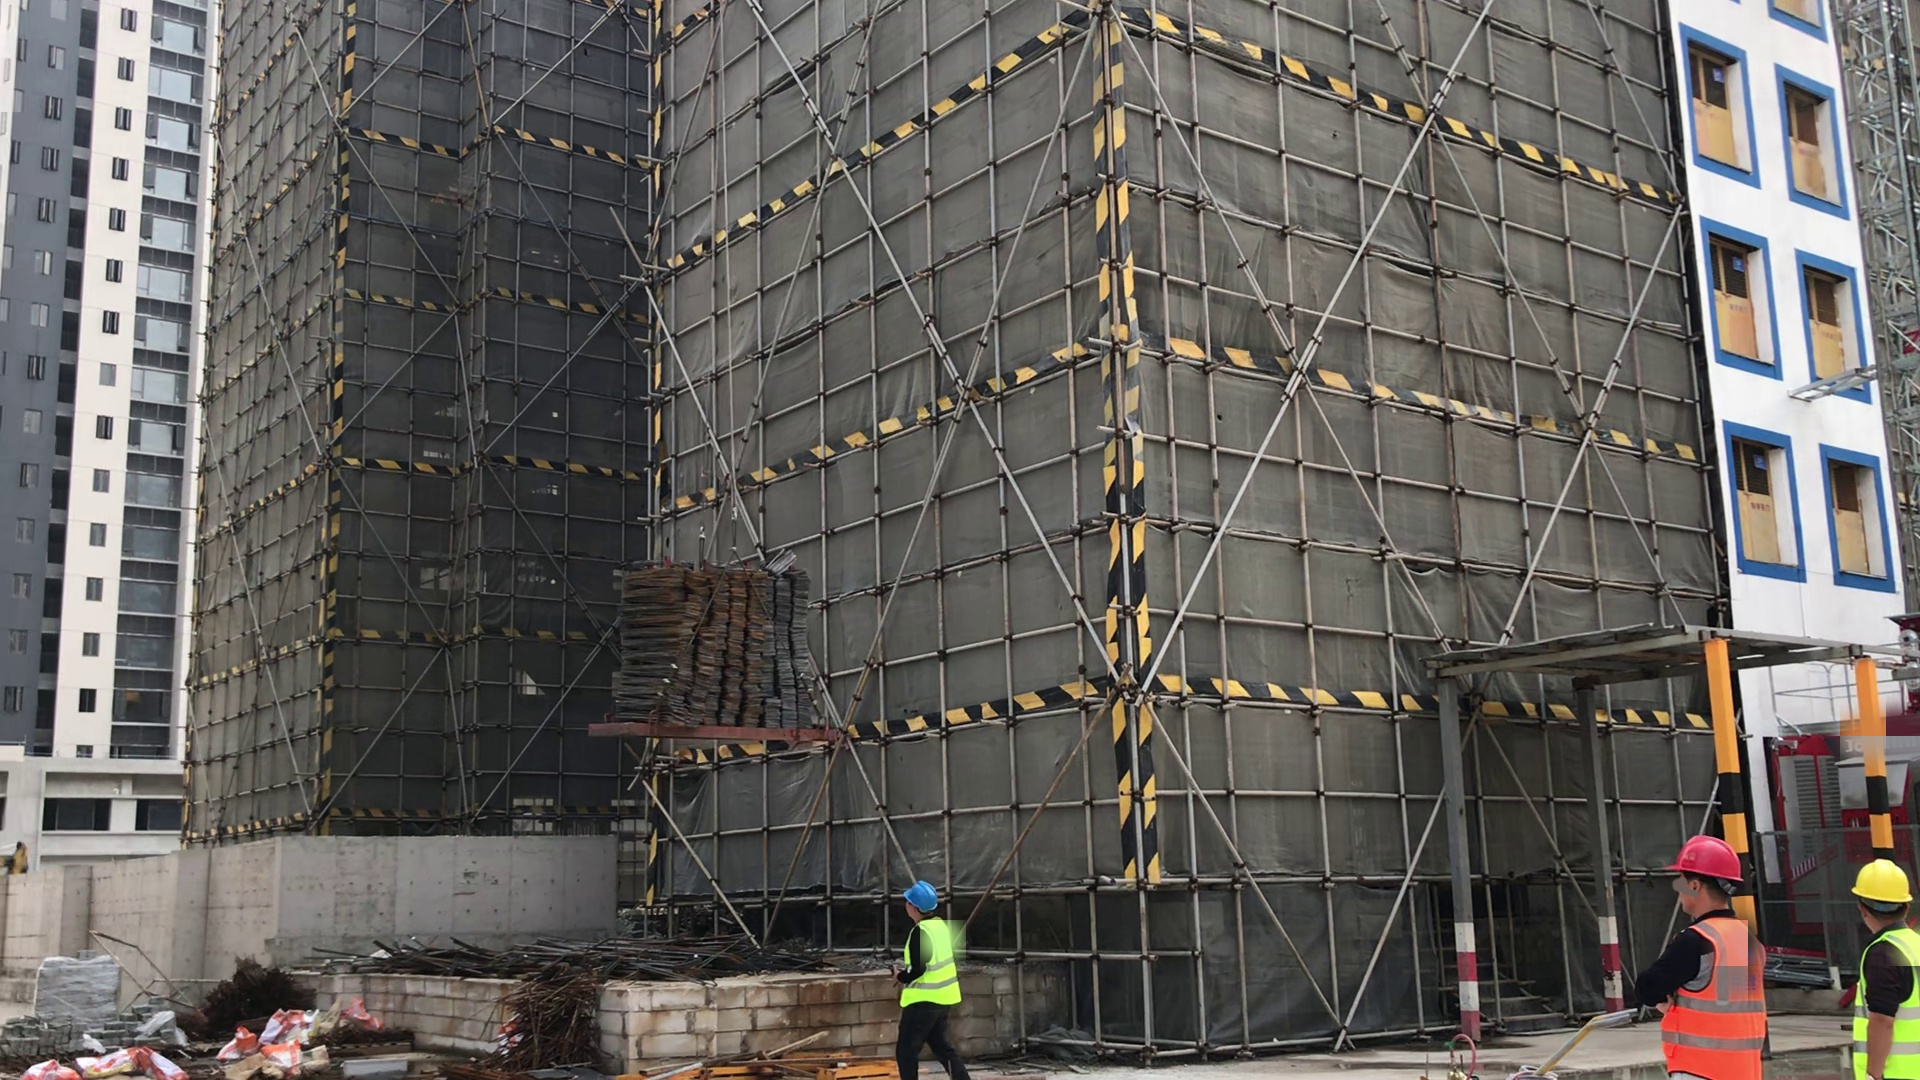helmet: (1849, 851, 1917, 912), (1676, 832, 1750, 886), (908, 880, 943, 918)
person: (1644, 833, 1767, 1080), (891, 878, 977, 1080), (1846, 851, 1919, 1080)
vest: (1660, 906, 1766, 1080), (1853, 922, 1913, 1080), (899, 922, 965, 1009)
